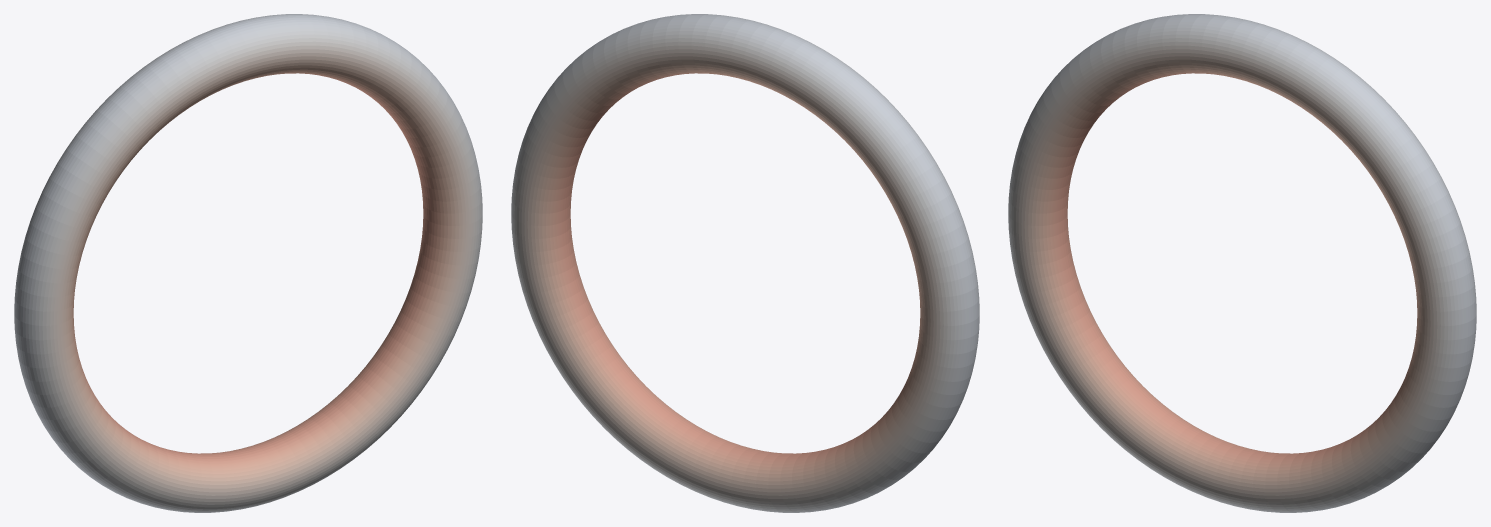
The picture shows the model from 3 angles, left to right: view 1: azimuth 30°, elevation 25°; view 2: azimuth 150°, elevation 25°; view 3: azimuth 330°, elevation 25°; orthographic projection.
Visible parts, largest first — view 1: world; view 2: world; view 3: world.
Part boxes in pixels (<box>): world: <box>14,14,482,512</box>; world: <box>511,14,979,512</box>; world: <box>1008,14,1476,512</box>.
Bounding box in the file's own units: 33.78 × 33.78 × 3.77.
